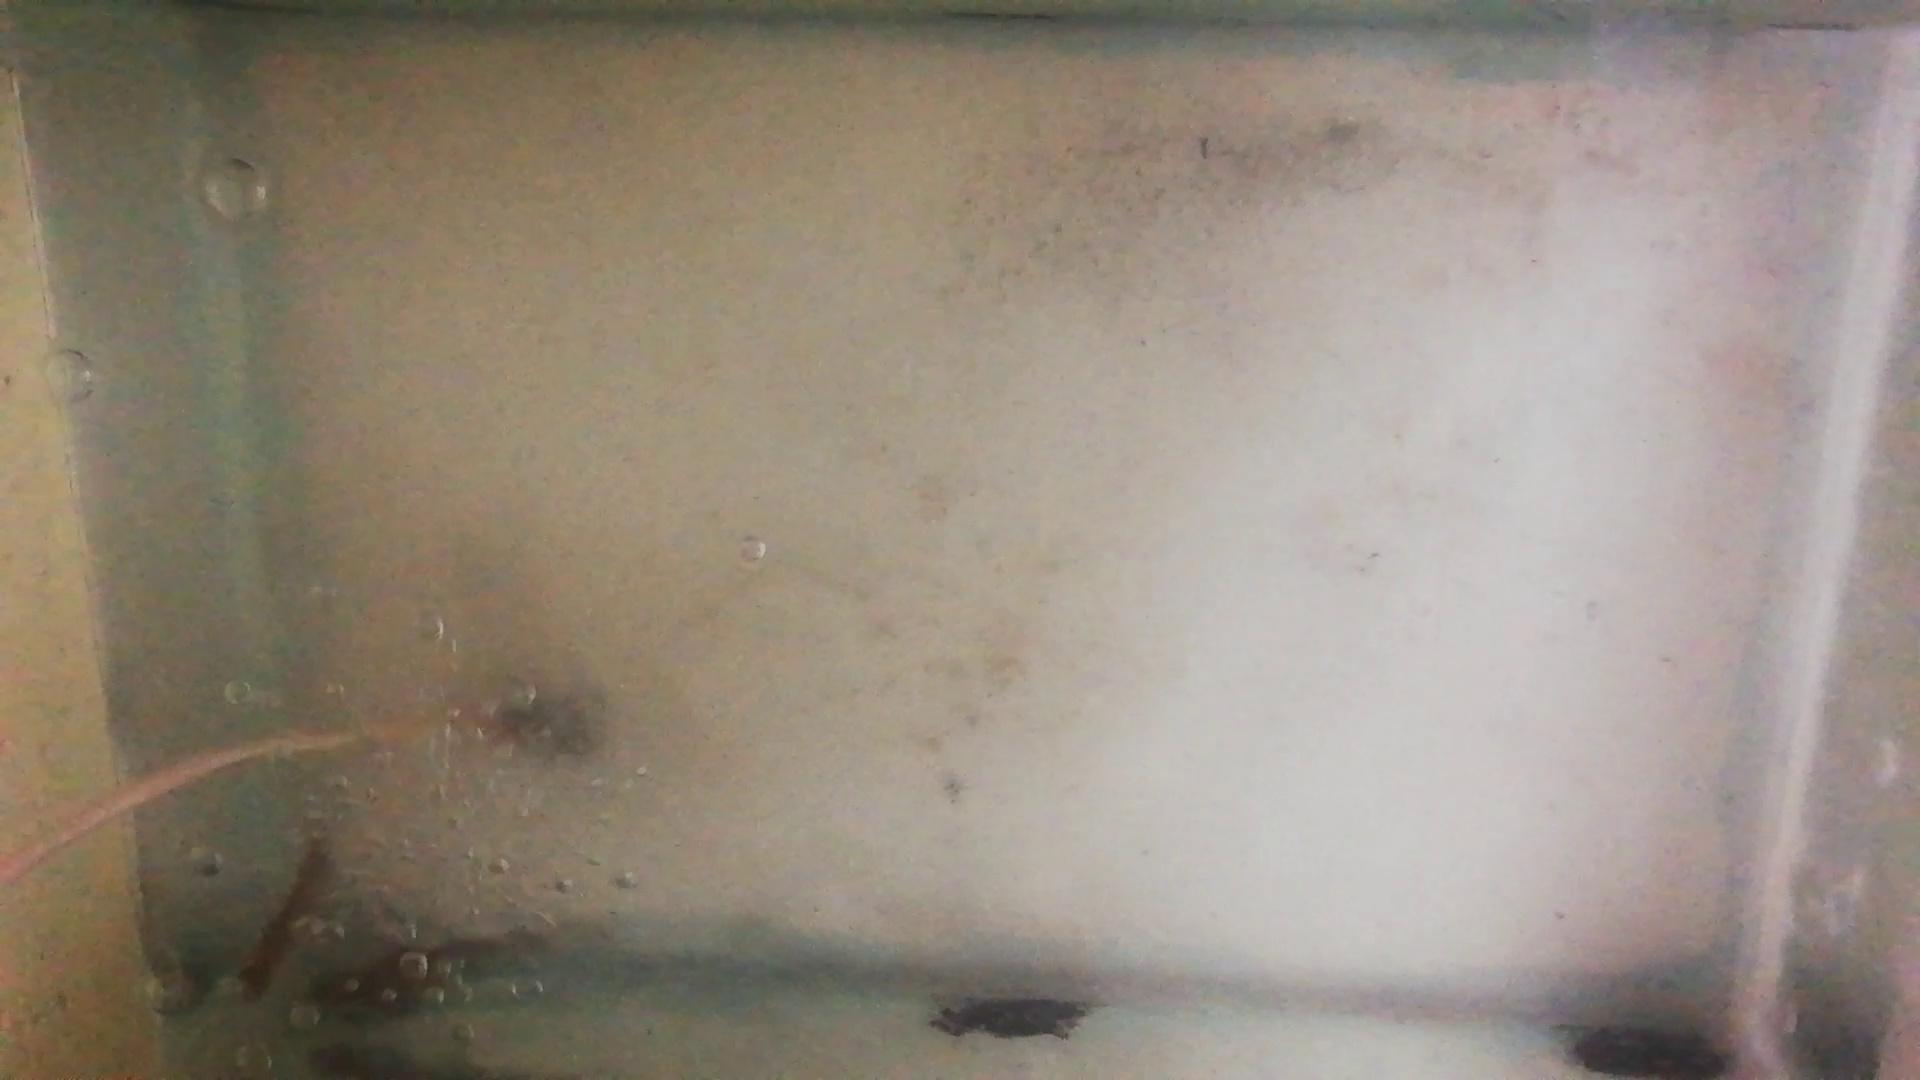fish: (320, 934, 527, 1011), (243, 843, 331, 1004)
